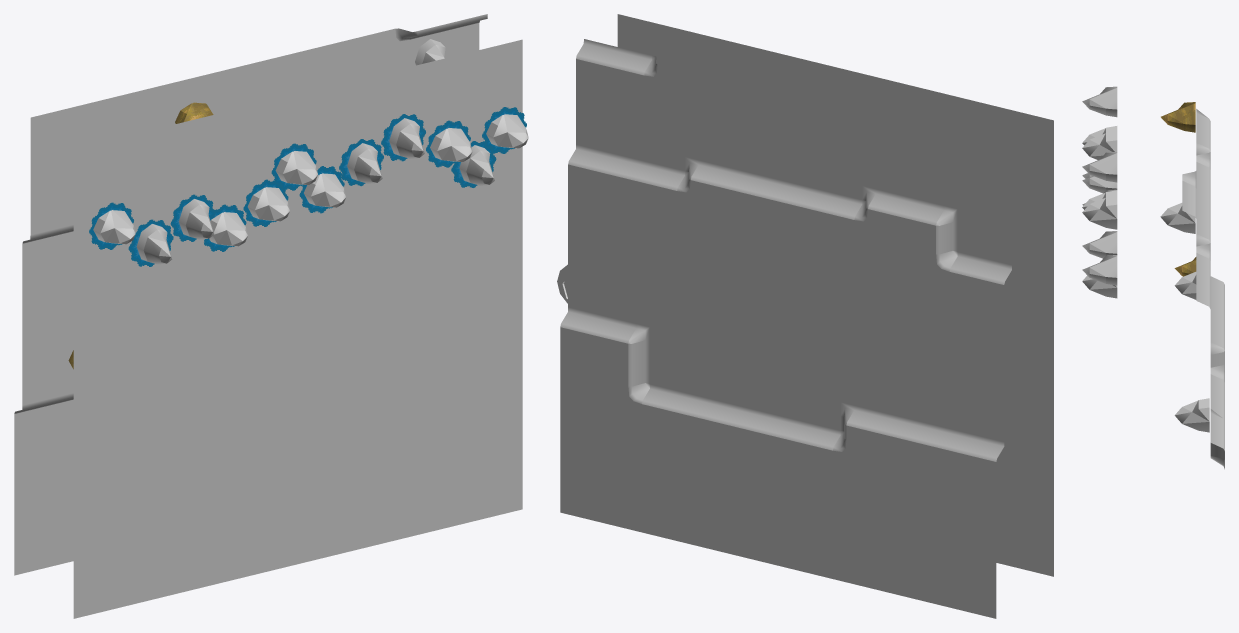
Rendered from Asteria_18_27.obj.
3 renders of one model, left to right at view 1: azimuth 30°, elevation 25°; view 2: azimuth 150°, elevation 25°; view 3: azimuth 270°, elevation 25°, orthographic. The views are drawn at different scales.
Parts seen in each view (by area): view 1: map; view 2: map; view 3: map.
Boxes of the visible parts, x1,y1,x2,y2 form: map: [14, 14, 528, 618]; map: [557, 14, 1053, 618]; map: [1082, 86, 1224, 469].
Bounding box in the file's own units: 32.92 × 32 × 10.04.
